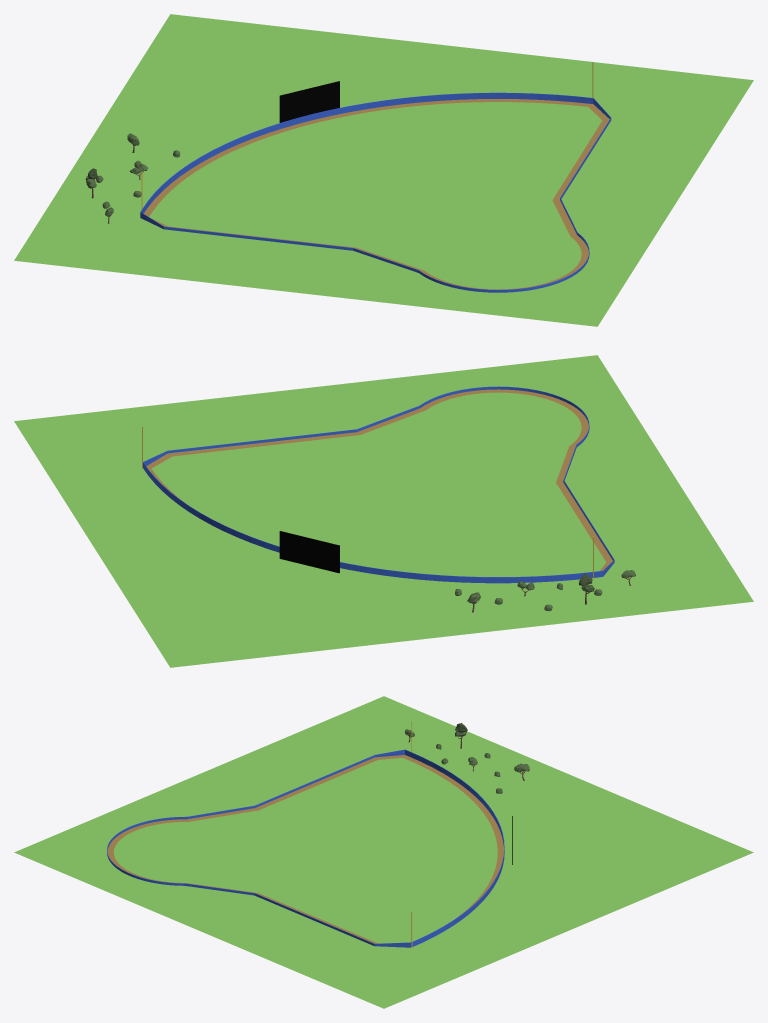
File: stadium.glb
3 renders of one model, top to bottom at view 1: azimuth 30°, elevation 25°; view 2: azimuth 150°, elevation 25°; view 3: azimuth 270°, elevation 25°, orthographic. The views are drawn at different scales.
Visible parts, largest first — view 1: Ground, Wall, Cube; view 2: Ground, Wall, Cube; view 3: Ground, Wall.
Boxes of the visible parts, x1,y1,x2,y2 form: Ground: (14,14,753,326); Wall: (140,92,611,292); Cube: (279,81,339,122); Ground: (14,355,753,667); Wall: (143,386,614,583); Cube: (279,531,339,573); Ground: (14,696,753,1008); Wall: (107,749,504,947).
Bounding box in the file's own units: 266 × 14.69 × 266.
